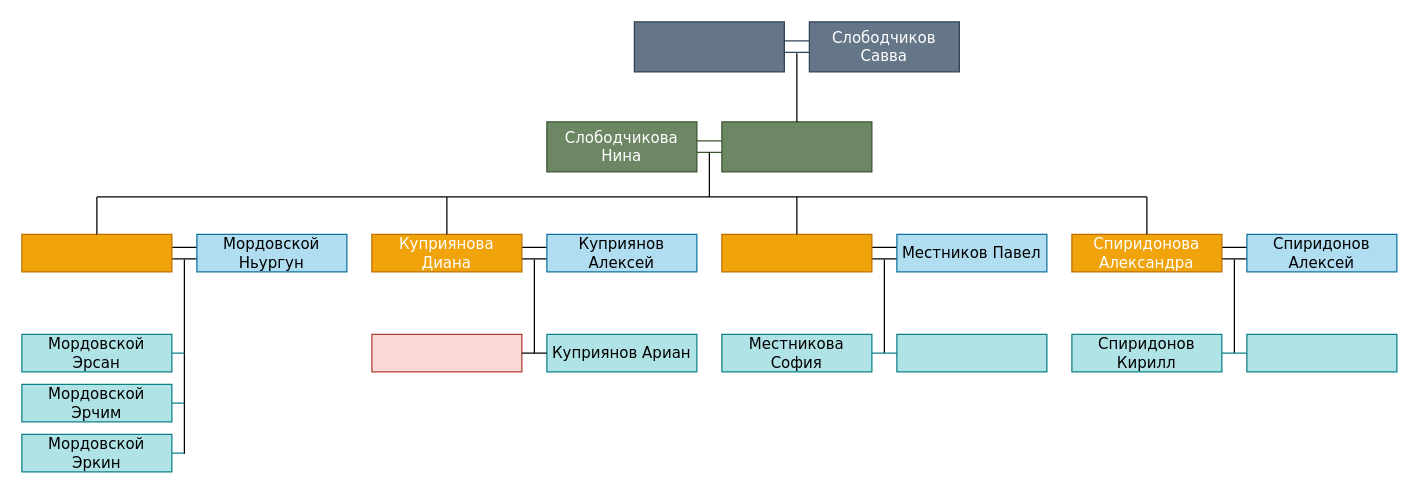
Some shapes in this 1419 by 494 pixel diagram are drawn without their labels. The centre of each missing label's shape, as x and y in pixels:
"Куприянов Артур" goes at point (446, 352).
"Местникова Екатерина" goes at point (796, 252).
"Местникова Любовь" goes at point (971, 352).
"Мордовская Татьяна" goes at point (96, 252).
"Слободчиков Николай" goes at point (796, 146).
"Слободчикова Татьяна" goes at point (708, 46).
"Спиридонова Виктория" goes at point (1321, 352).
